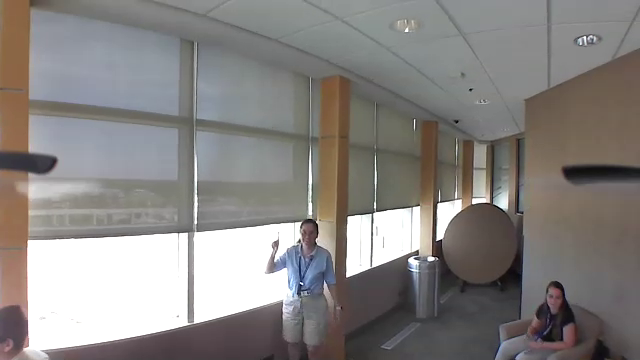up: (267, 228, 282, 254)
